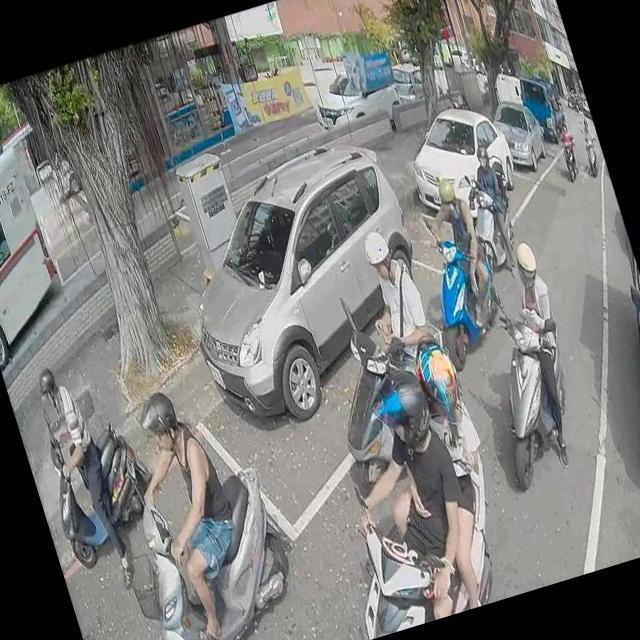person: (344, 330, 522, 619), (312, 367, 493, 635), (108, 373, 268, 640), (486, 232, 596, 470), (24, 356, 137, 585), (346, 220, 441, 387), (412, 160, 502, 332), (462, 143, 532, 274), (552, 120, 580, 167), (576, 116, 596, 146)
